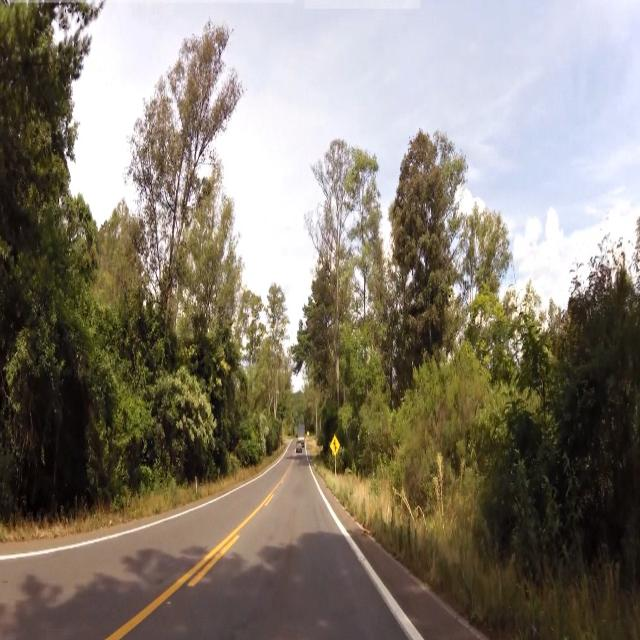A-11b: (329, 432, 341, 457)
